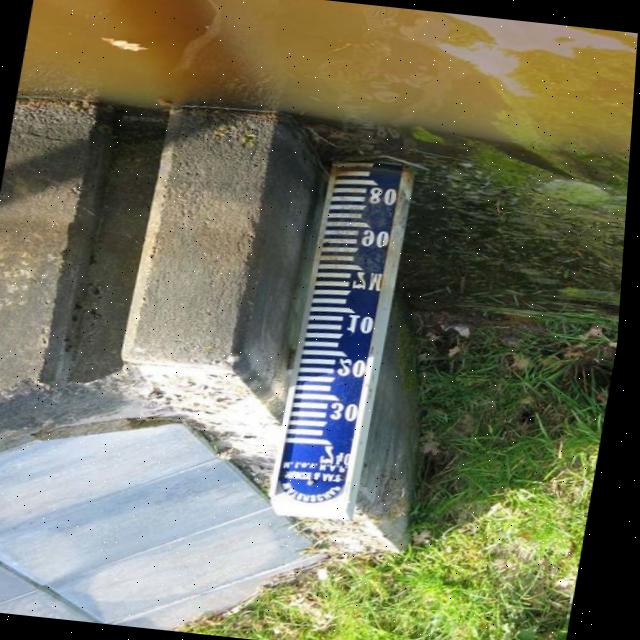water-meter: (263, 124, 423, 514)
